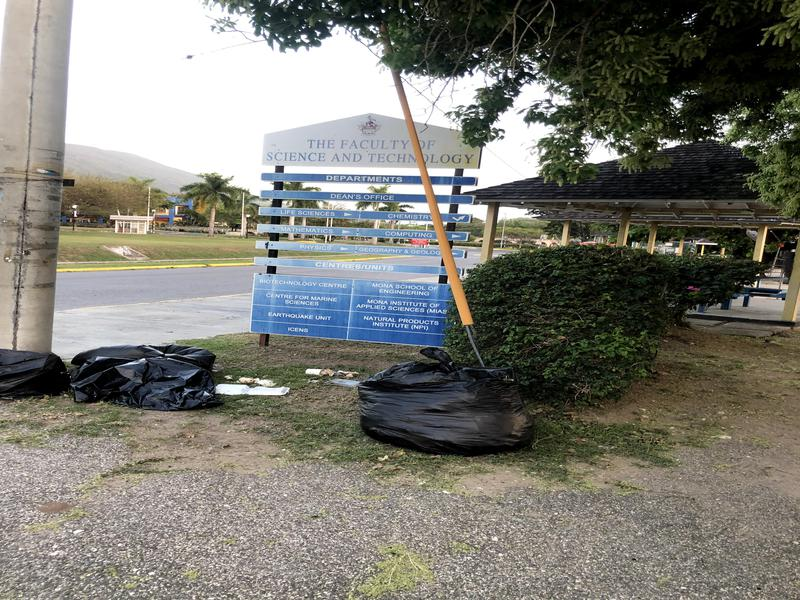18.0055634_-76.7484079_scitechsign: (239, 95, 478, 368)
